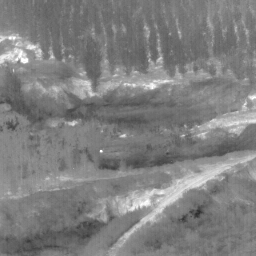aircraft: (100, 150, 102, 152)
